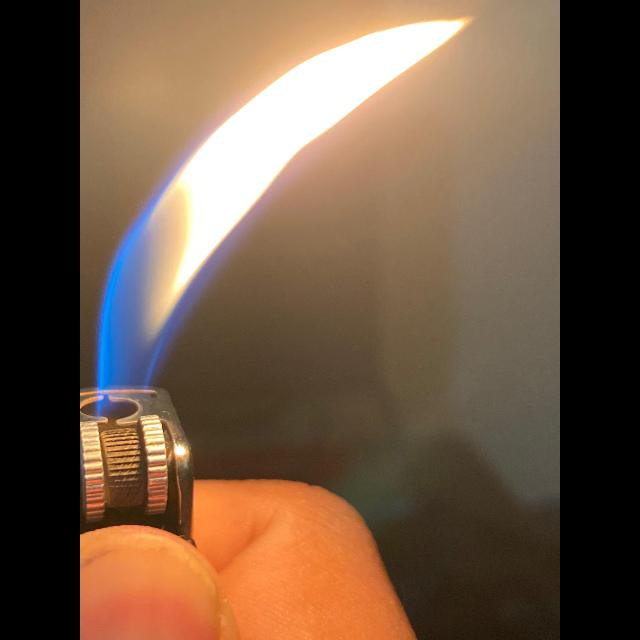fire: (98, 18, 468, 388)
